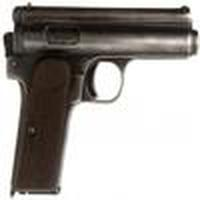gun: (2, 2, 197, 193)
